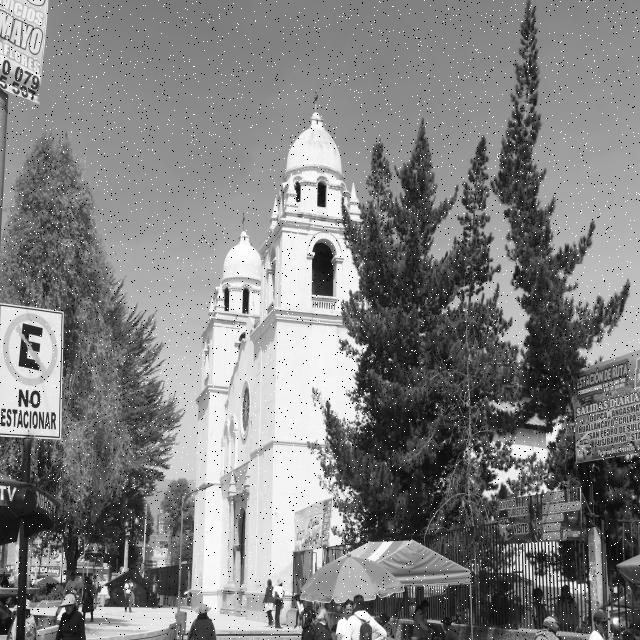CAMPANARIO: (279, 196, 375, 320), (213, 227, 273, 302)
CUPULA: (281, 96, 364, 212), (196, 313, 251, 391)
TORRES: (274, 86, 393, 628), (190, 210, 268, 612)
colonial-architecture-: (122, 53, 457, 630)
